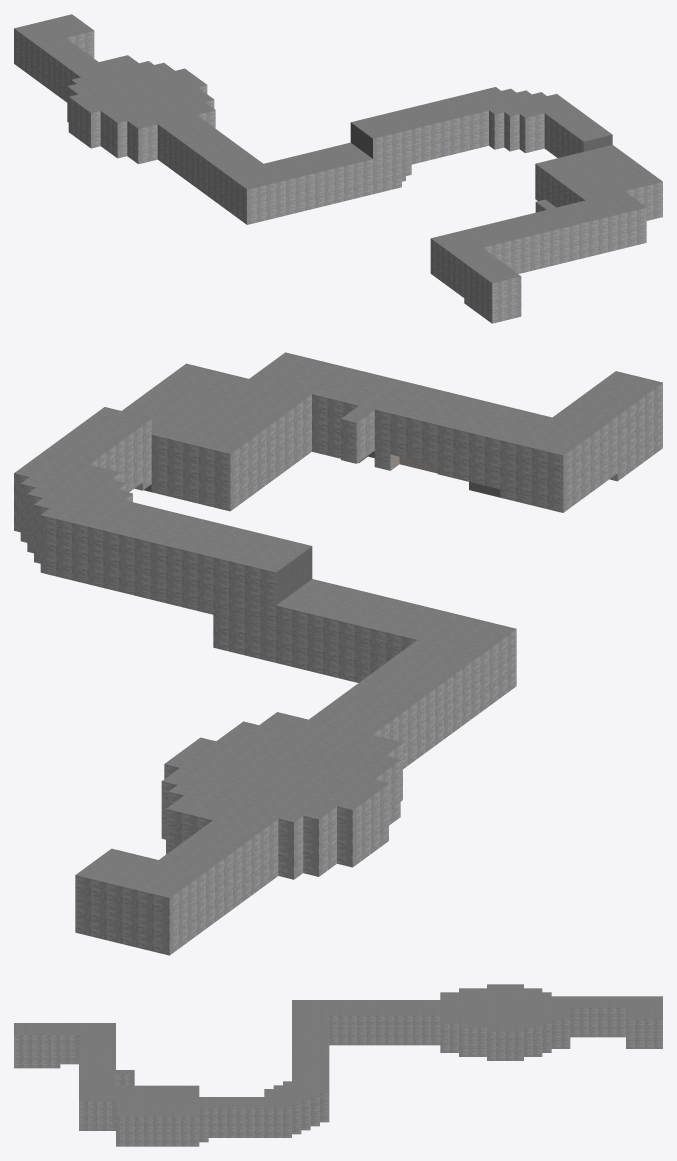
The model's file is PlayStage.fbx.
3 views of the same model, one above another, from view 1: azimuth 30°, elevation 25°; view 2: azimuth 150°, elevation 25°; view 3: azimuth 270°, elevation 25° (orthographic). The views are drawn at different scales.
Parts seen in each view (by area): view 1: Plane.081; view 2: Plane.081; view 3: Plane.081.
Part boxes in pixels (box(x1,y1,x2,y2)): Plane.081: box(14, 14, 662, 323); Plane.081: box(14, 352, 662, 955); Plane.081: box(14, 984, 662, 1146).
Bounding box in the file's own units: 144 × 22 × 280.
Materials: 3 (3 with a texture image).
